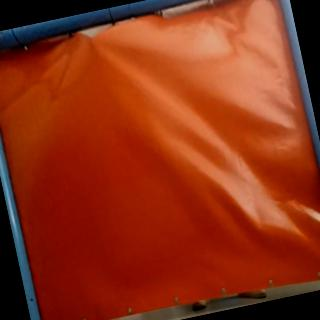Hit-hRxx: (85, 36, 102, 48)
